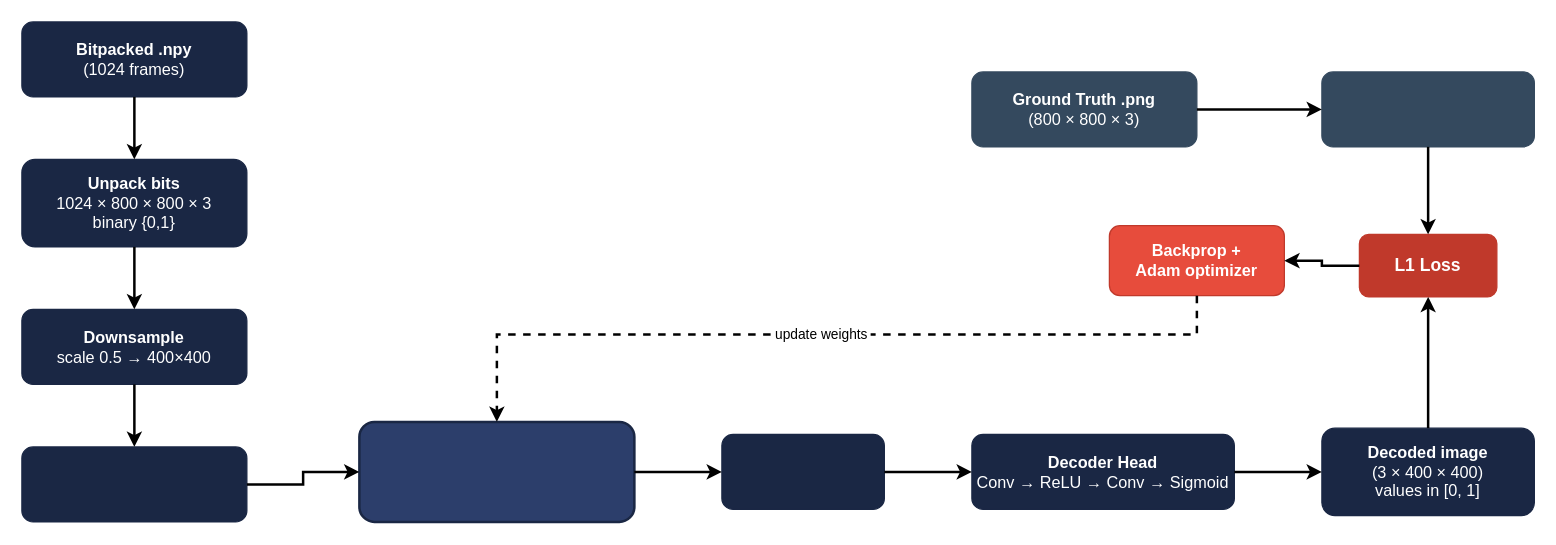
This 1556x545 diagram has some shape labels left out. The centre of each missing label's shape, as x and y in pixels:
"ConvLSTM Processes chunks sequentially carries (h, c) across chunks" belongs at (x=496, y=471).
"Downsample GT to 400 × 400" belongs at (x=1427, y=109).
"Final hidden state h" belongs at (x=802, y=471).
"Split into chunks 64 frames each" belongs at (x=134, y=484).
